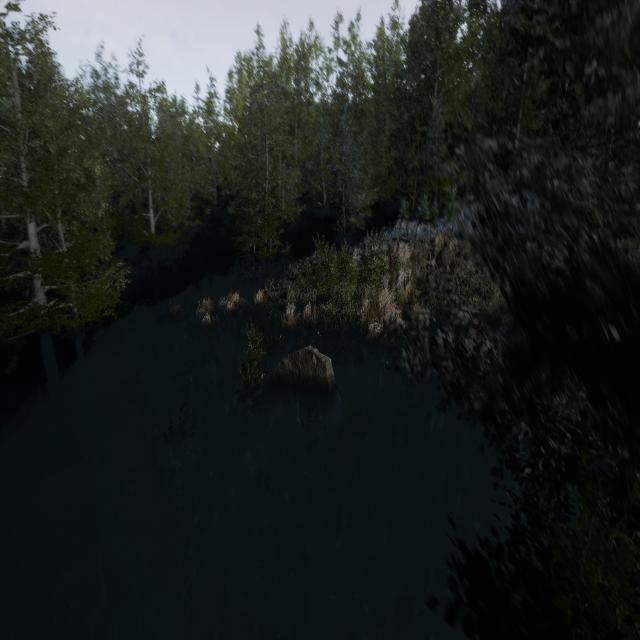Human: (309, 287, 318, 334)
